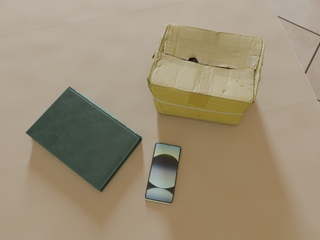book: (26, 86, 142, 192)
box: (147, 23, 265, 125)
phone: (145, 142, 181, 204)
